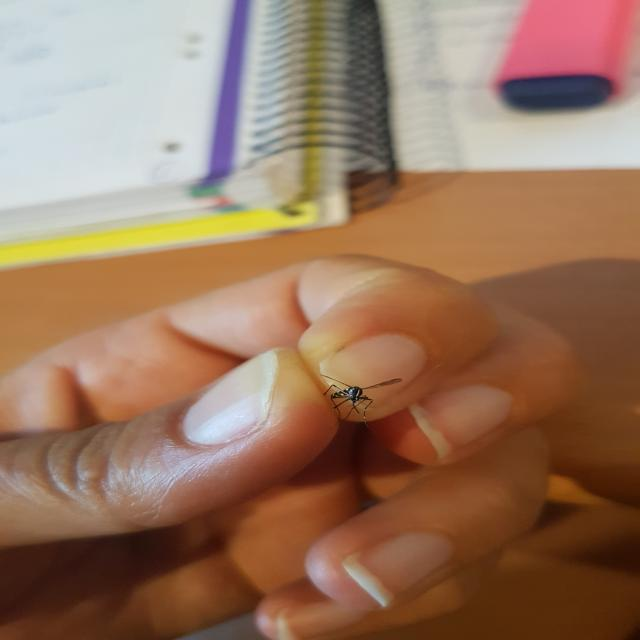albopictus: (309, 365, 407, 423)
